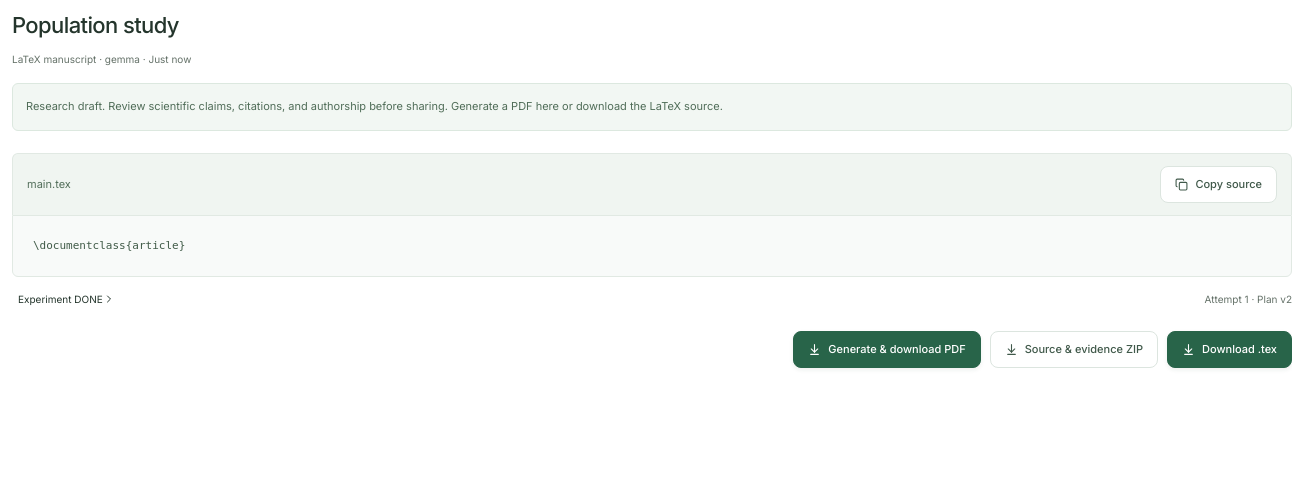
Test: streams PDF compilation then downloads the saved PDF
The width and height of the screenshot is (1304, 480).
What coordinates should you click on to do the following:
click the button "Generate & download PDF"
I would click on:
 (887, 350)
Its box is [793,331,981,368].
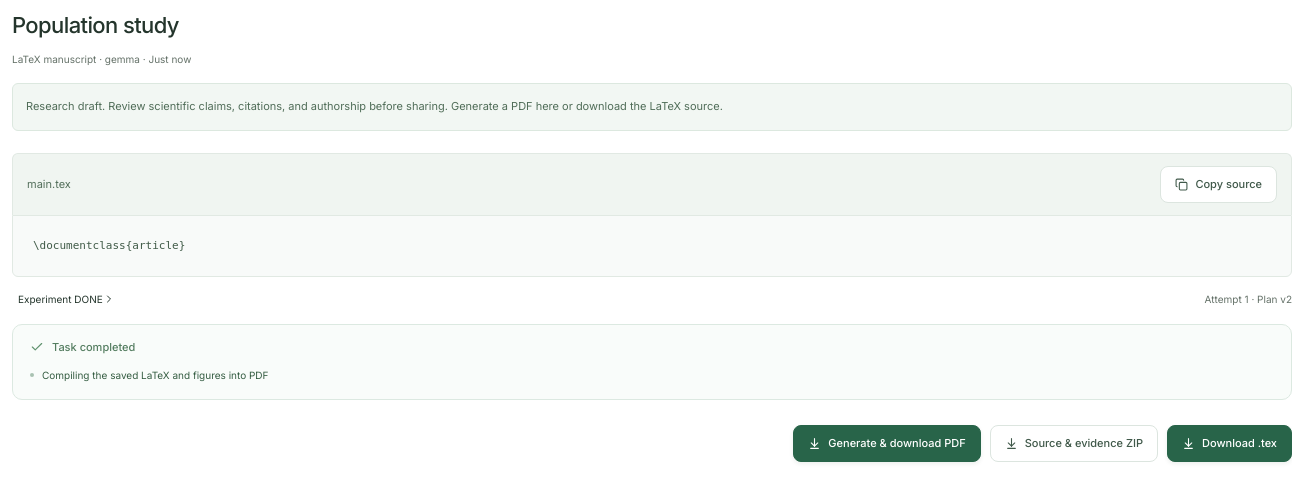
expect the text "Task completed" is shown: met, box [30,340,135,354]
